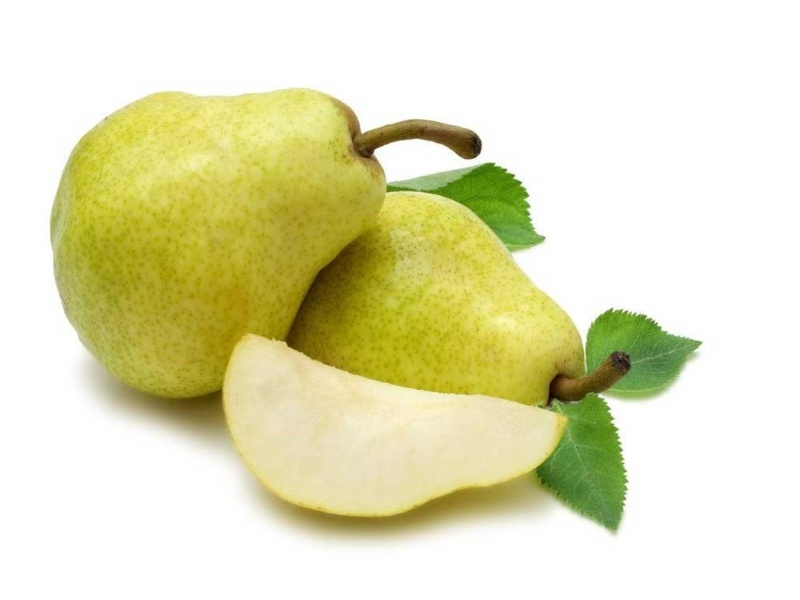Pera: (49, 91, 482, 398), (287, 189, 632, 469), (219, 331, 570, 520)
